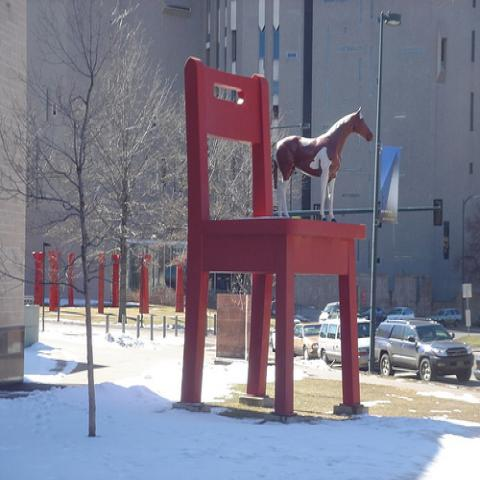car: (374, 318, 475, 383), (294, 323, 320, 359), (428, 308, 462, 328), (317, 303, 338, 323), (387, 307, 415, 320), (294, 314, 311, 328), (270, 301, 276, 318)
truck: (316, 317, 370, 372), (430, 308, 462, 328), (474, 354, 479, 382), (271, 325, 276, 352)
